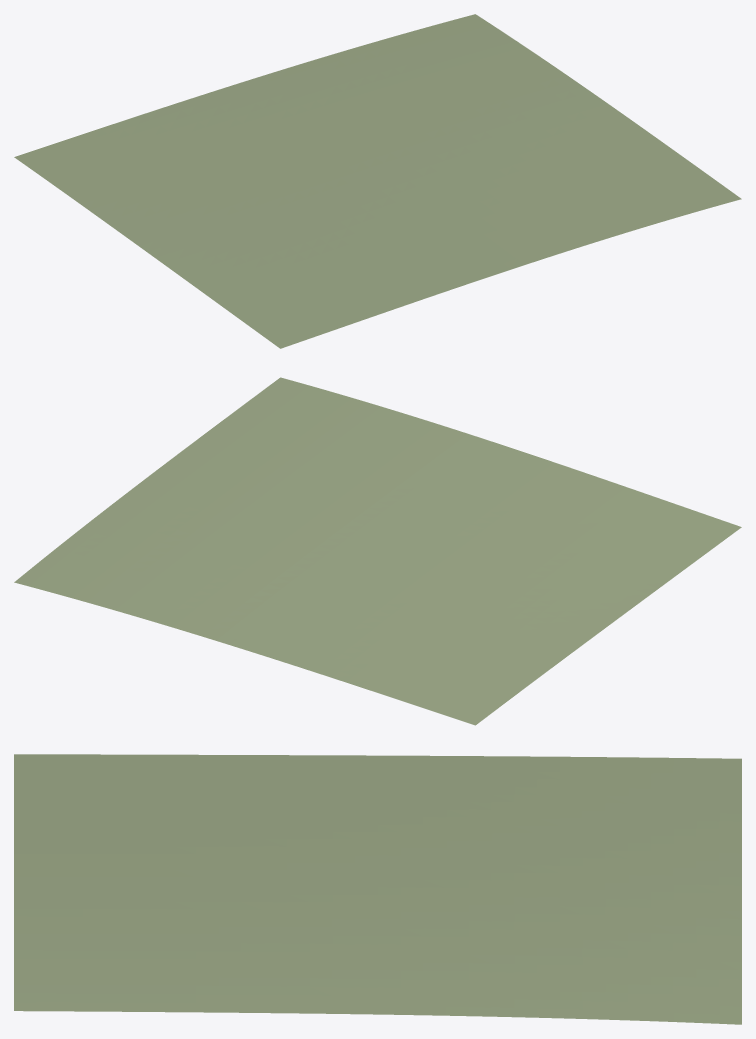
File: valley-1-10.glb
The picture shows the model from 3 angles, top to bottom: view 1: azimuth 30°, elevation 25°; view 2: azimuth 150°, elevation 25°; view 3: azimuth 270°, elevation 25°; orthographic projection. The views are drawn at different scales.
Parts seen in each view (by area): view 1: valley-1-10; view 2: valley-1-10; view 3: valley-1-10.
Part boxes in pixels (box(x1,y1,x2,y2)): valley-1-10: box(14, 14, 741, 348); valley-1-10: box(14, 377, 741, 725); valley-1-10: box(14, 754, 741, 1024).
Bounding box in the file's own units: 256 × 21.47 × 256.
